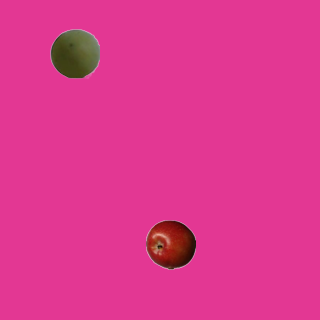Apple Braeburn: (145, 219, 195, 269)
Grape White 4: (49, 28, 99, 78)
